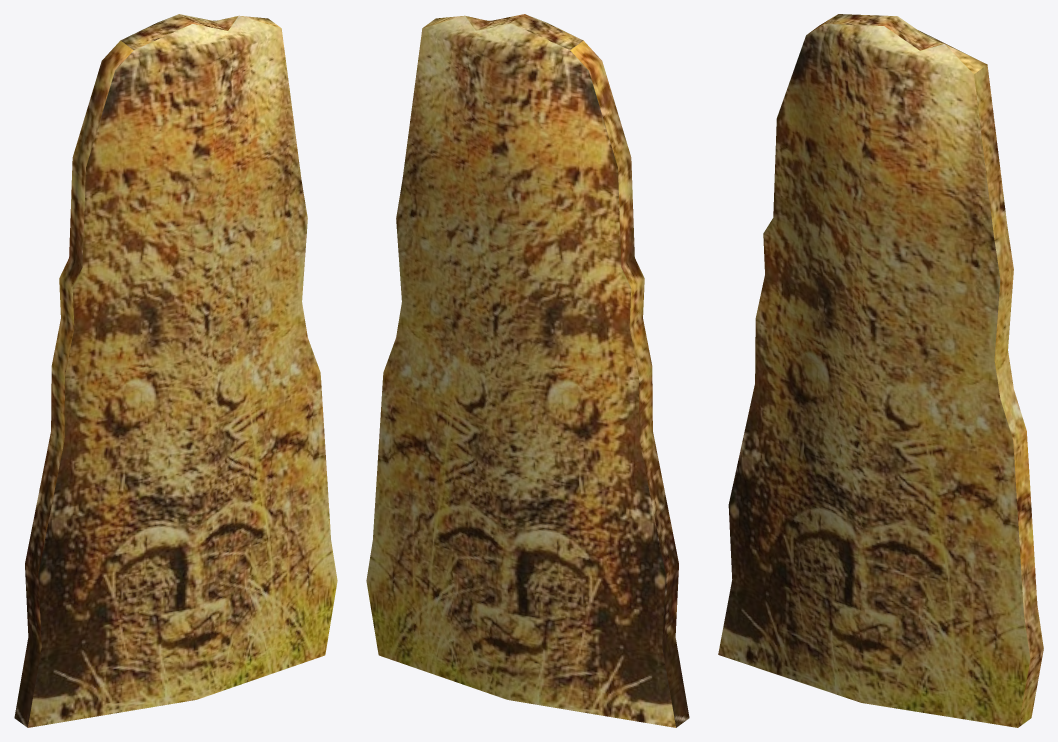
File: Rock6.FBX
3 renders of one model, left to right at view 1: azimuth 30°, elevation 25°; view 2: azimuth 150°, elevation 25°; view 3: azimuth 330°, elevation 25°, orthographic.
Parts seen in each view (by area): view 1: 6Rock; view 2: 6Rock; view 3: 6Rock.
Boxes of the visible parts, bbox=[...] form: 6Rock: bbox=[14, 14, 337, 727]; 6Rock: bbox=[366, 14, 689, 727]; 6Rock: bbox=[718, 14, 1043, 727].
Size of the model in its own units: 4.45 by 9.11 by 1.
